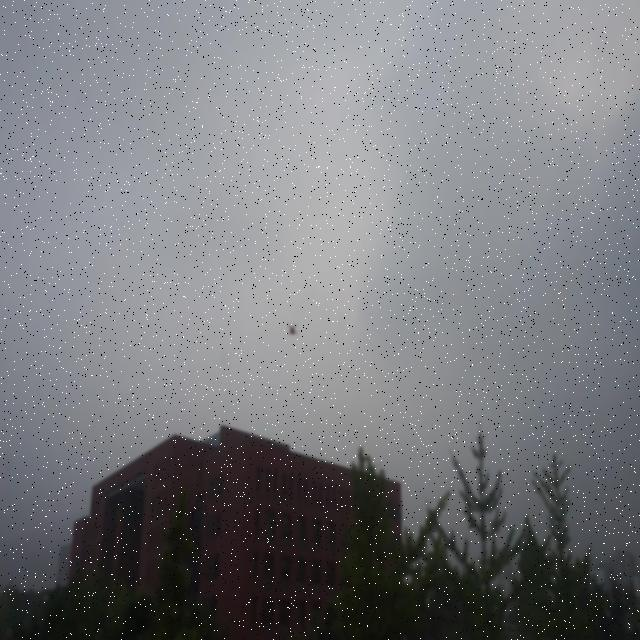UAV: (286, 323, 299, 336)
